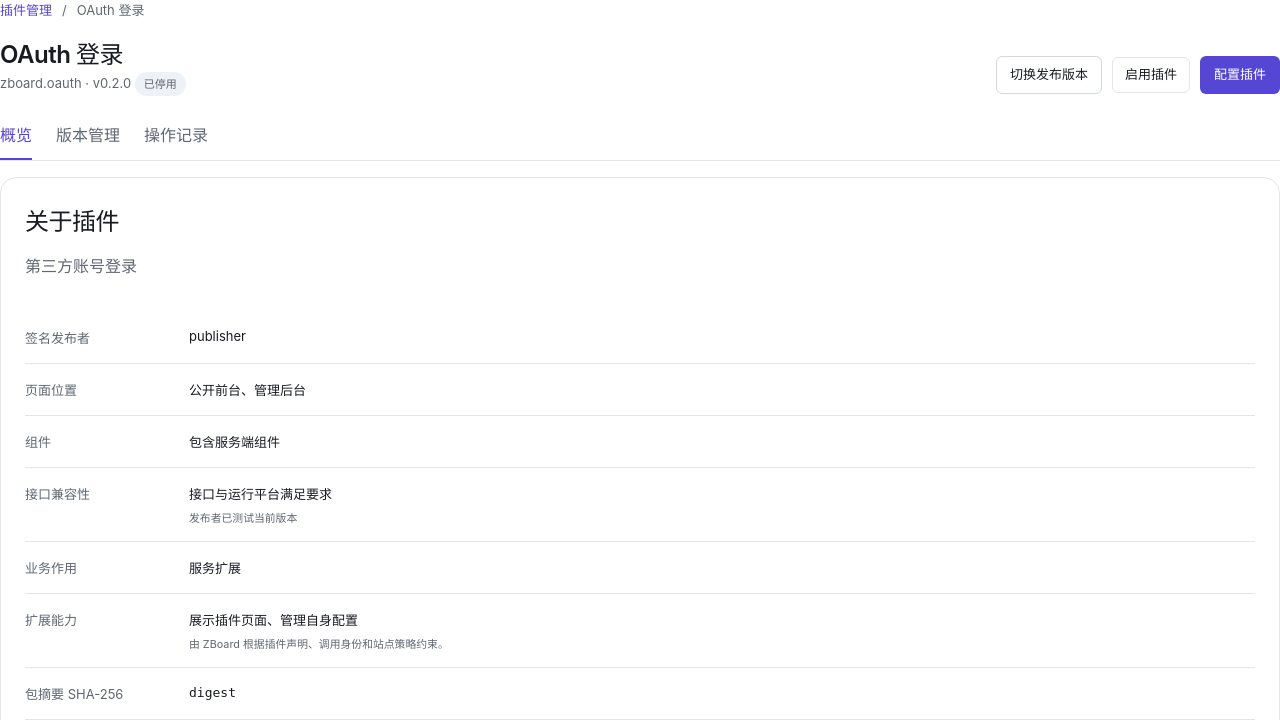
Scenario: plugin management navigation › shows the host failure without a false success: plugin capability is outside the host admission scope
Click the button "启用插件" at (1151, 74), box [1112, 56, 1190, 92]
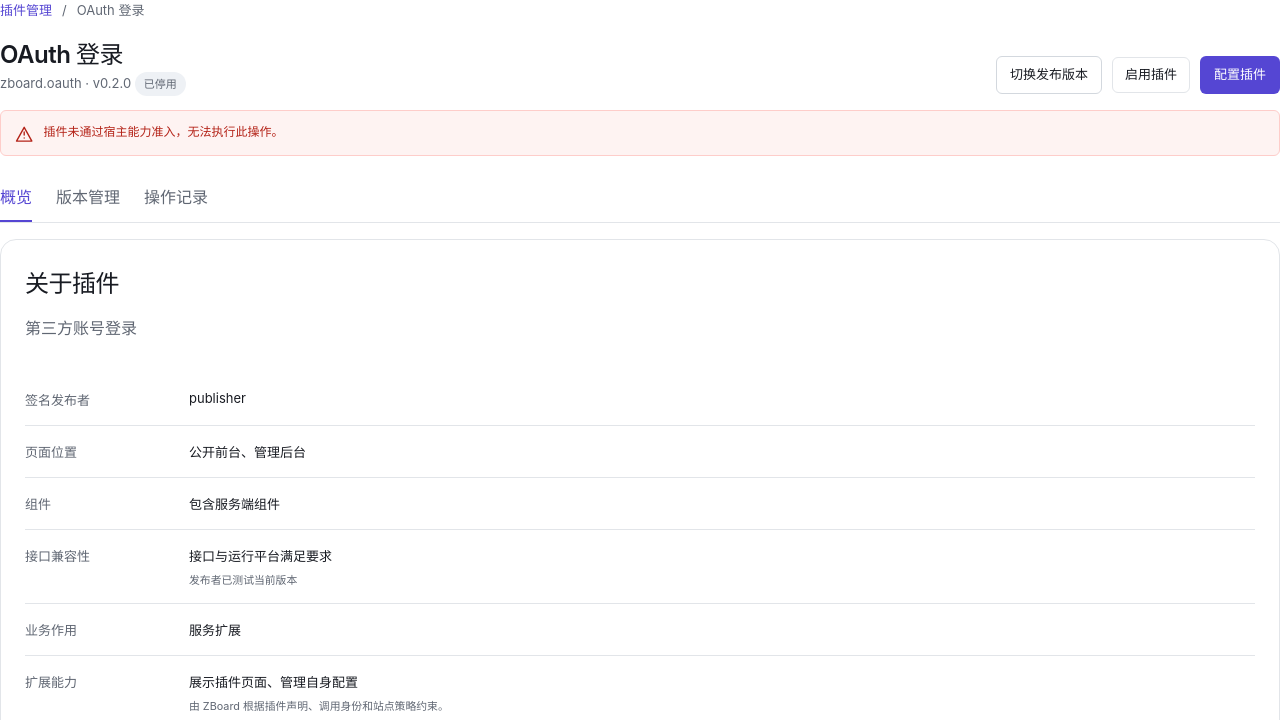
Expected: the text "插件未通过宿主能力准入" is shown, [43, 124, 283, 138]
